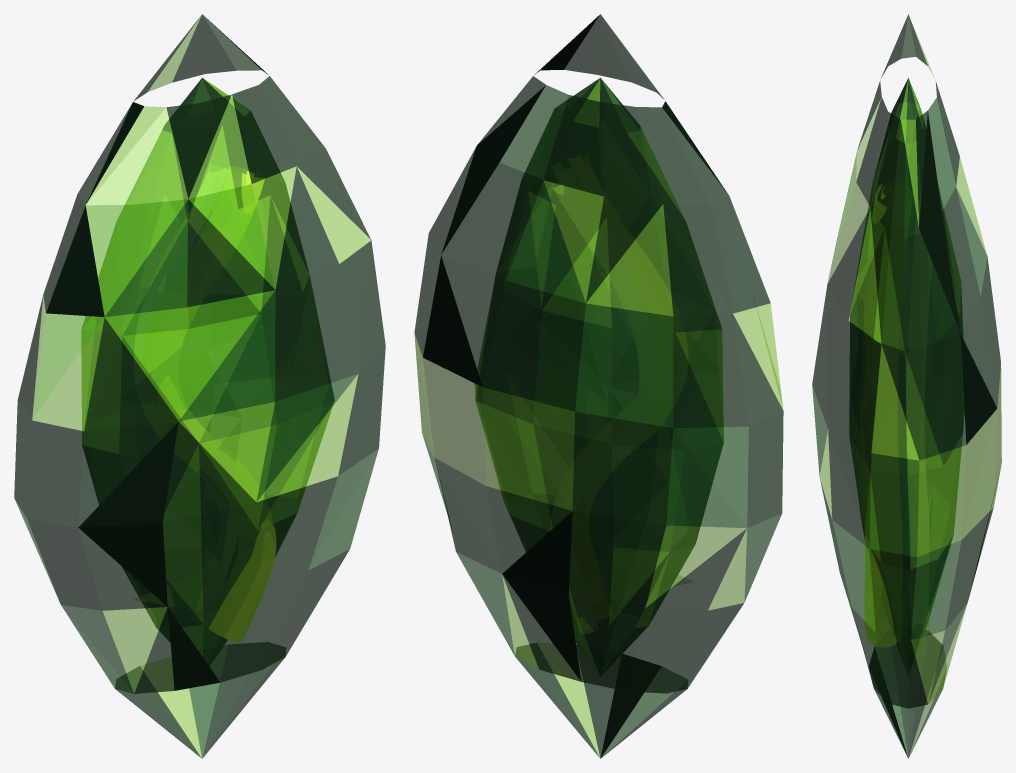
Rendered from rvyn-core.glb.
The picture shows the model from 3 angles, left to right: view 1: azimuth 30°, elevation 25°; view 2: azimuth 150°, elevation 25°; view 3: azimuth 270°, elevation 25°; orthographic projection.
Parts seen in each view (by area): view 1: Rvyn Crystal Shell, Rvyn Inner Faceted Core, Rvyn Internal Energy Flow; view 2: Rvyn Crystal Shell, Rvyn Inner Faceted Core; view 3: Rvyn Crystal Shell, Rvyn Inner Faceted Core, Rvyn Internal Energy Flow.
Boxes of the visible parts, left/top/right/bottom form: Rvyn Crystal Shell: left=14, top=14, right=385, bottom=758; Rvyn Inner Faceted Core: left=81, top=77, right=334, bottom=665; Rvyn Internal Energy Flow: left=184, top=167, right=275, bottom=641; Rvyn Crystal Shell: left=414, top=14, right=783, bottom=758; Rvyn Inner Faceted Core: left=475, top=78, right=723, bottom=676; Rvyn Crystal Shell: left=812, top=14, right=1001, bottom=758; Rvyn Inner Faceted Core: left=849, top=78, right=964, bottom=675; Rvyn Internal Energy Flow: left=864, top=184, right=896, bottom=647.
Size of the model in its own units: 4.08 by 8.08 by 1.87.
